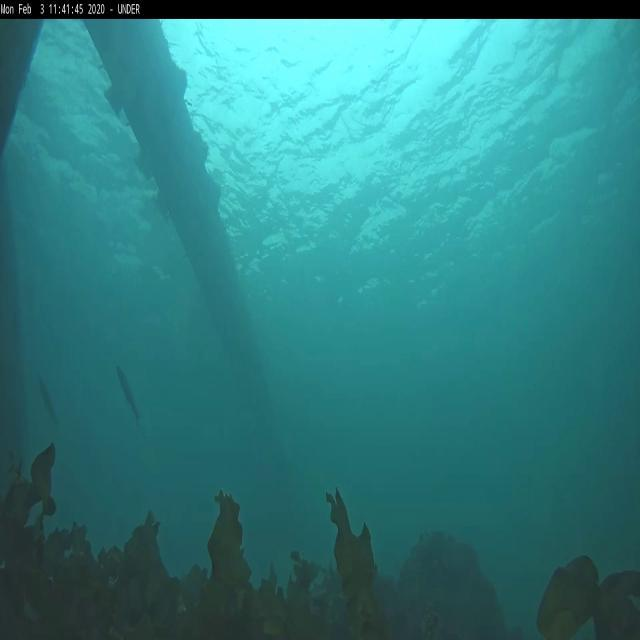fish: (115, 363, 142, 429), (36, 373, 58, 429)
